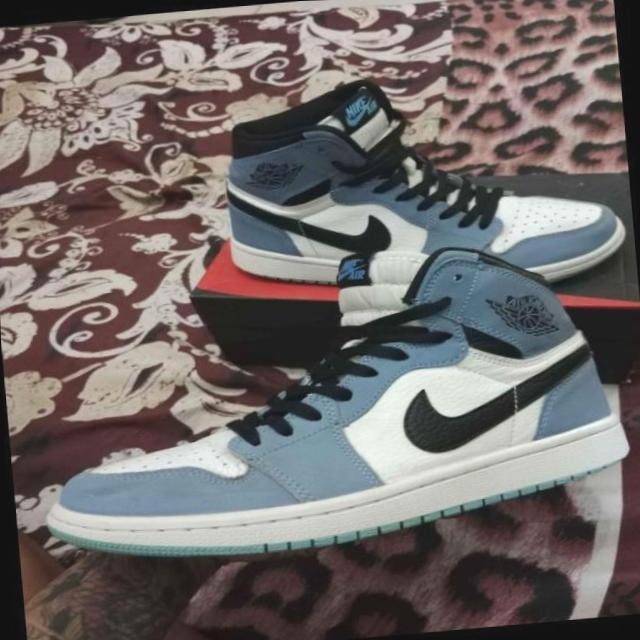nike_fake_jordan: (25, 228, 640, 574), (208, 55, 636, 316)
